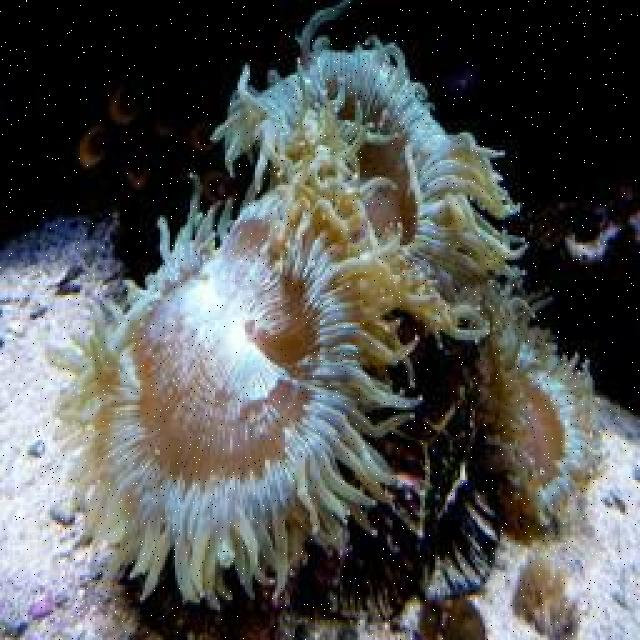reefs: (50, 0, 613, 637)
sea-floor: (0, 210, 279, 638), (422, 401, 638, 638)
